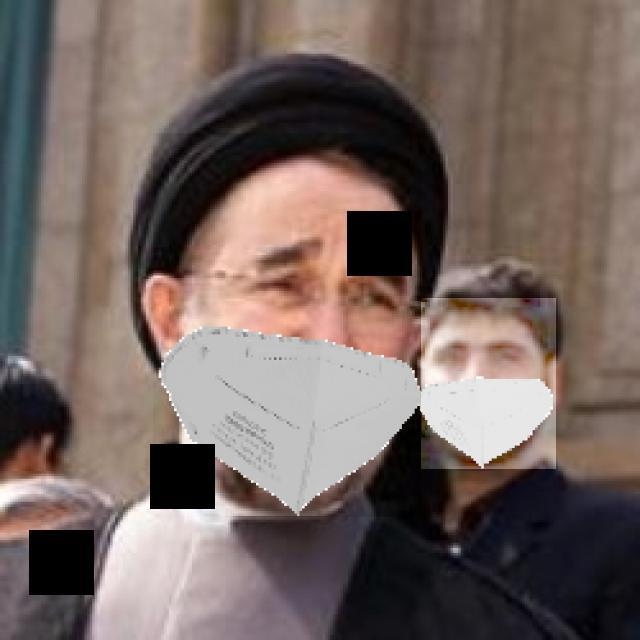kn95: (153, 134, 421, 518), (421, 298, 556, 469)
